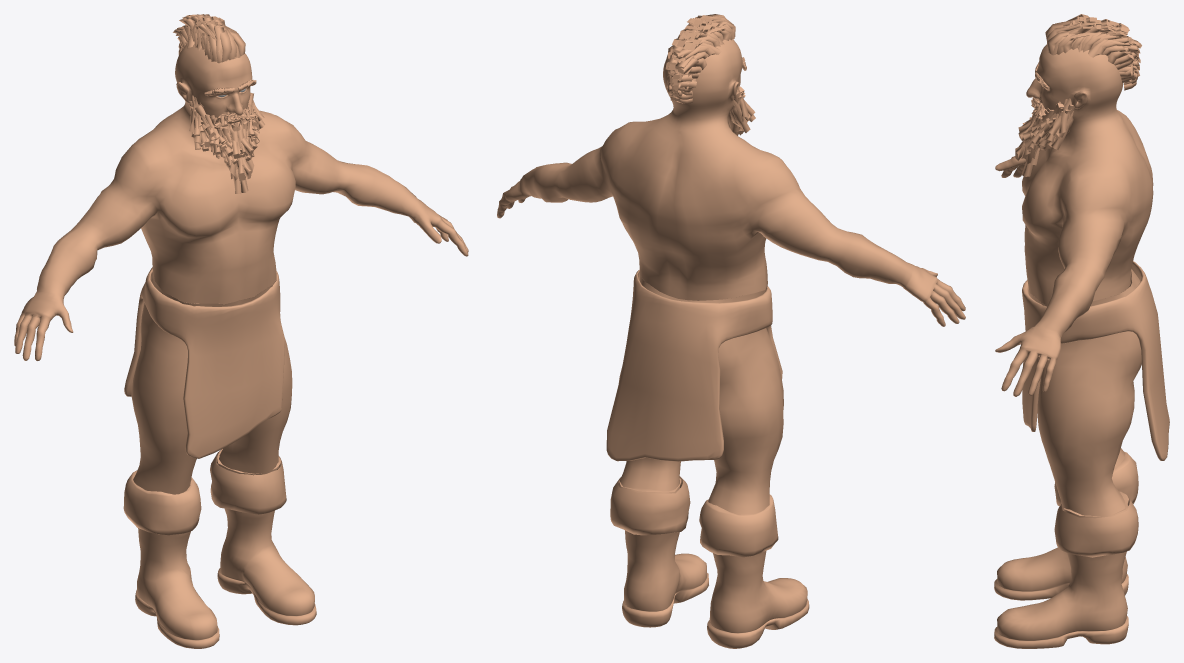
Rendered from Harum.fbx.
3 renders of one model, left to right at view 1: azimuth 30°, elevation 25°; view 2: azimuth 150°, elevation 25°; view 3: azimuth 270°, elevation 25°, orthographic. The views are drawn at different scales.
Parts seen in each view (by area): view 1: Cloth, Body, Hair; view 2: Cloth, Body, Hair; view 3: Cloth, Body, Hair.
Boxes of the visible parts, x1=… form: Cloth: x1=123, y1=267, x2=316, y2=648; Body: x1=14, y1=43, x2=468, y2=360; Hair: x1=173, y1=14, x2=264, y2=193; Cloth: x1=606, y1=270, x2=809, y2=648; Body: x1=497, y1=39, x2=965, y2=326; Hair: x1=665, y1=14, x2=755, y2=135; Cloth: x1=994, y1=261, x2=1169, y2=648; Body: x1=995, y1=44, x2=1153, y2=396; Hair: x1=1015, y1=14, x2=1141, y2=176.
Size of the model in its own units: 121 by 40.46 by 152.
